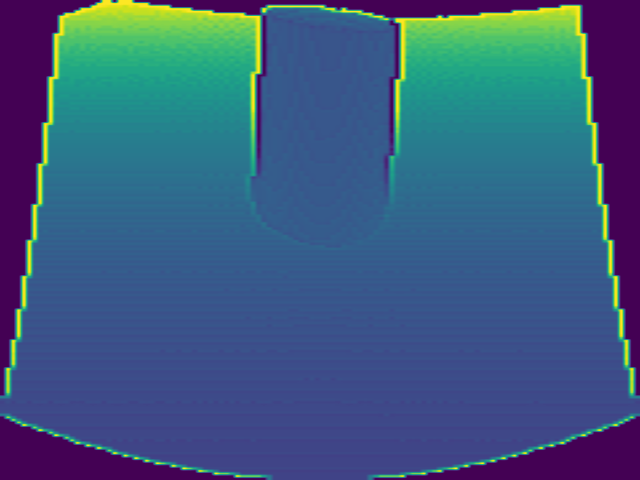cylinder: (250, 4, 404, 245)
